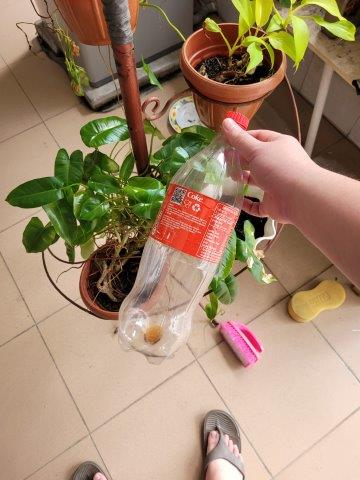botolplastik: (116, 113, 244, 364)
